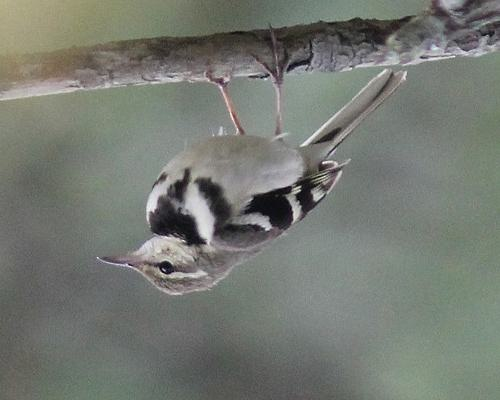wagtail: (85, 56, 409, 302)
